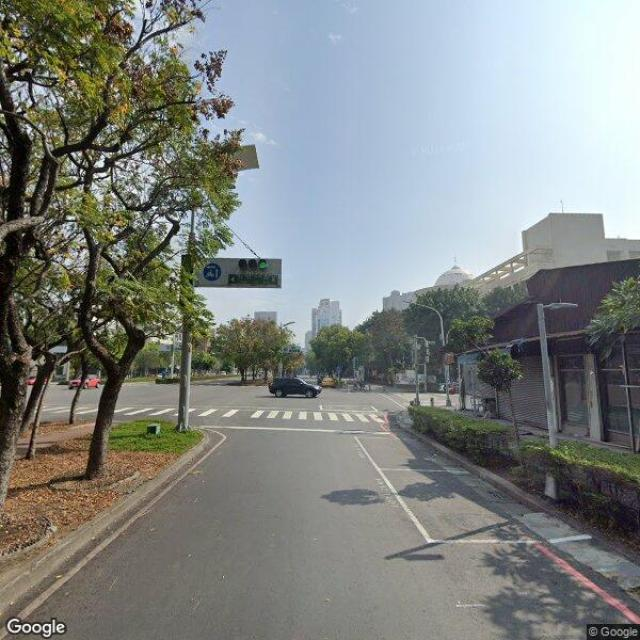illegalparking: (269, 377, 321, 397)
